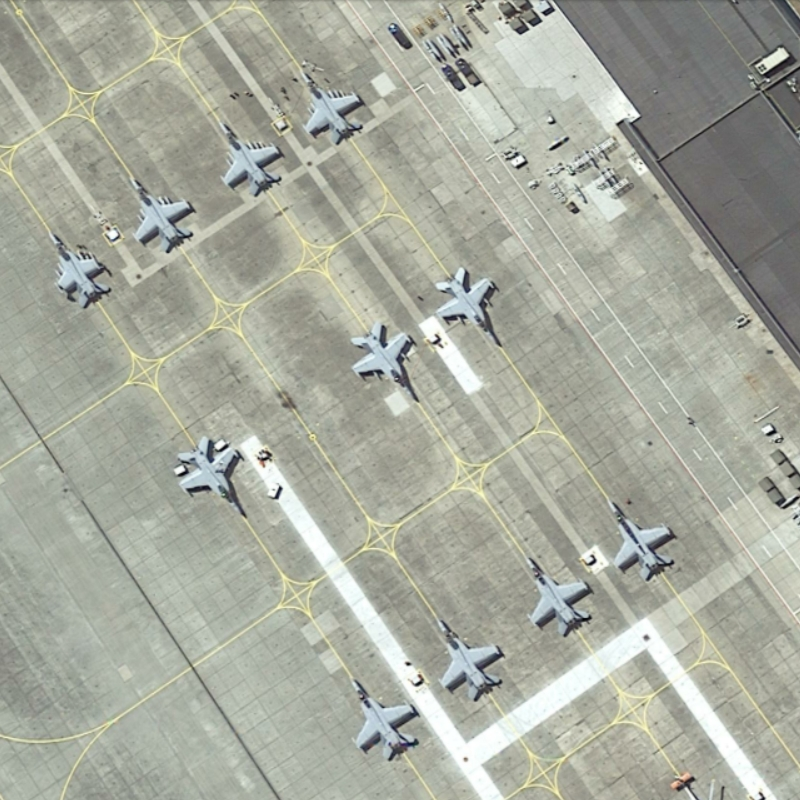A16: (167, 425, 254, 522), (515, 548, 598, 645), (343, 671, 424, 769), (426, 614, 511, 707), (429, 256, 510, 351), (44, 212, 115, 315), (341, 316, 423, 404), (125, 161, 198, 259), (603, 497, 681, 587), (213, 110, 288, 203), (295, 60, 366, 151)
